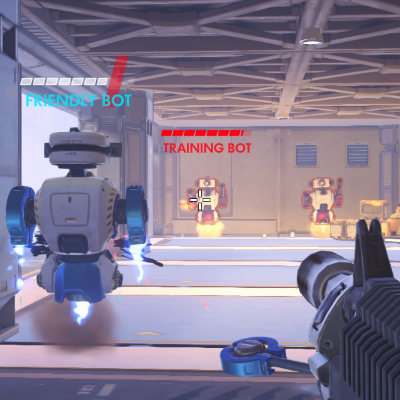hpbar: (160, 129, 252, 137)
